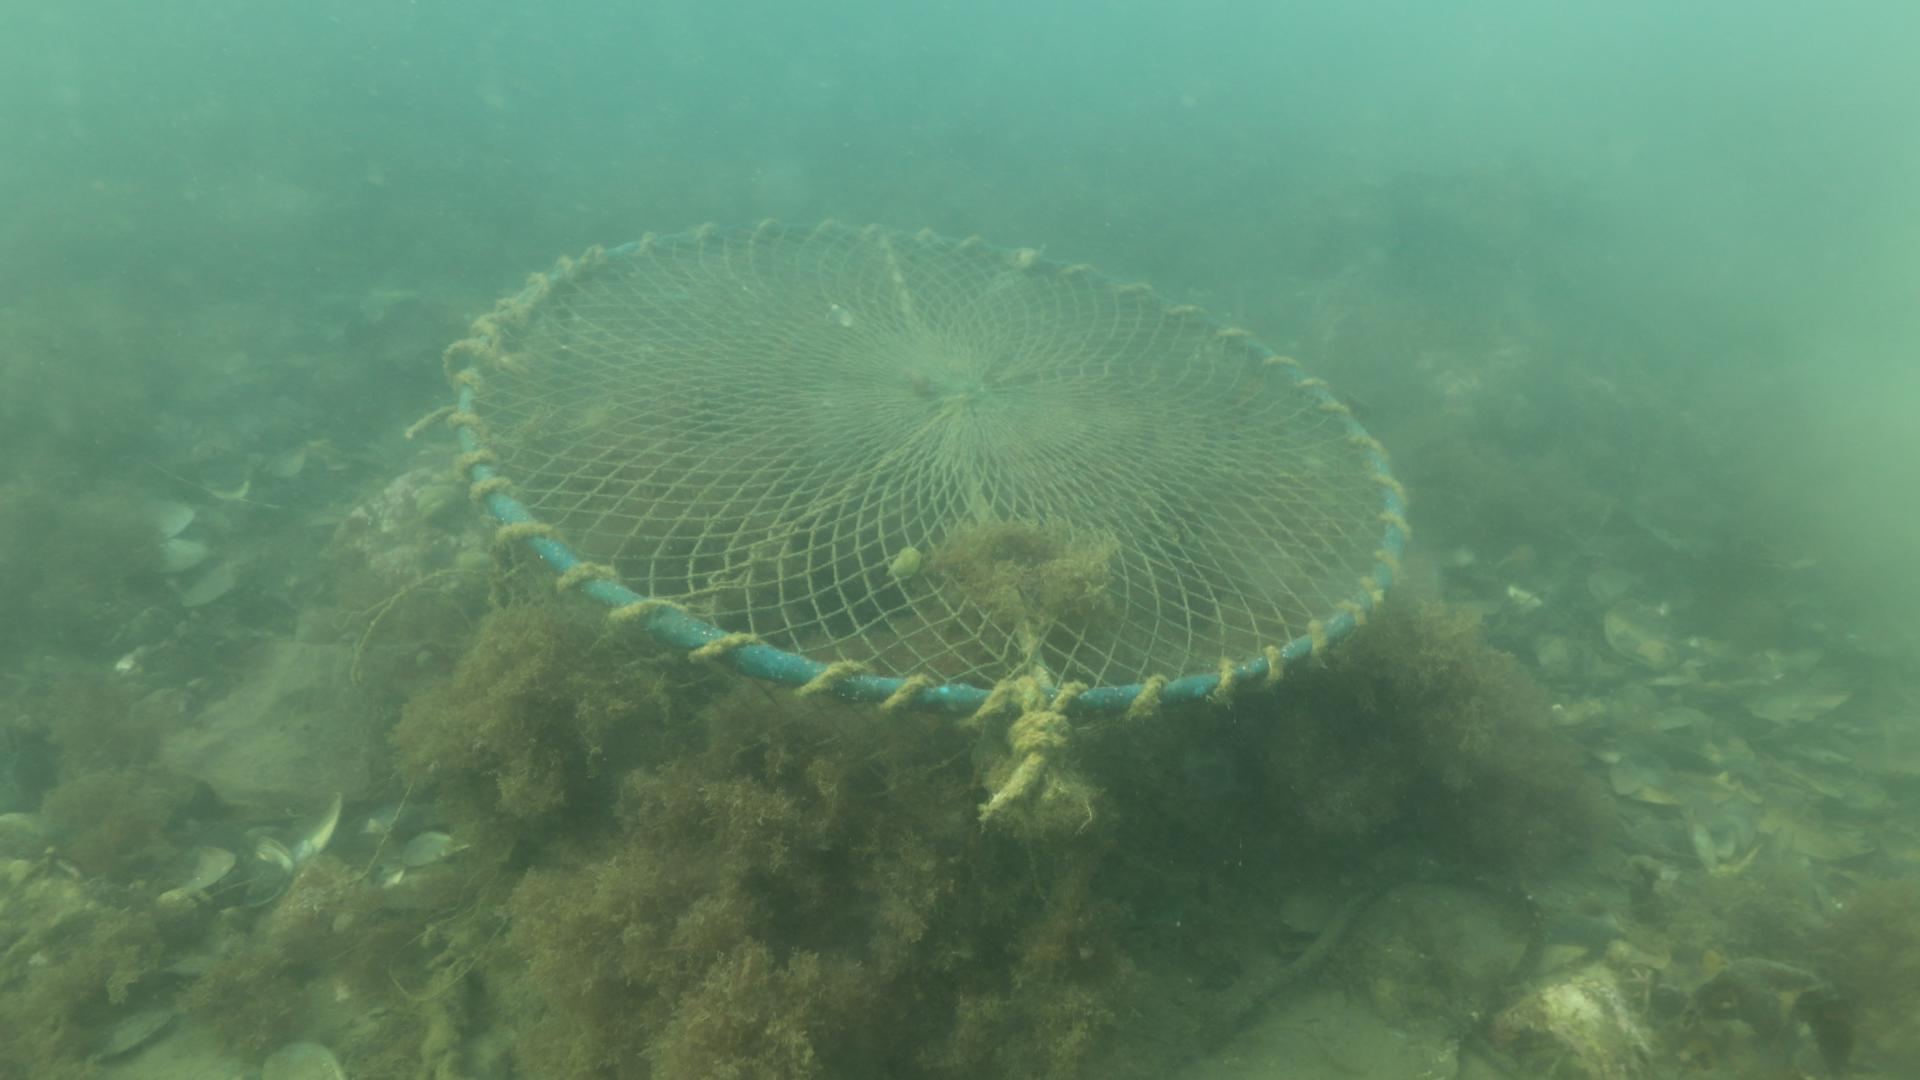circular fish trap: (444, 214, 1415, 796)
